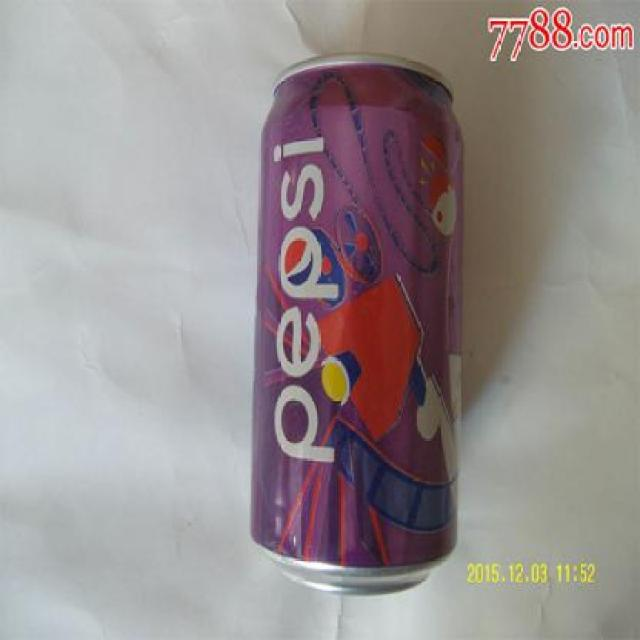Metal: (249, 50, 466, 597)
